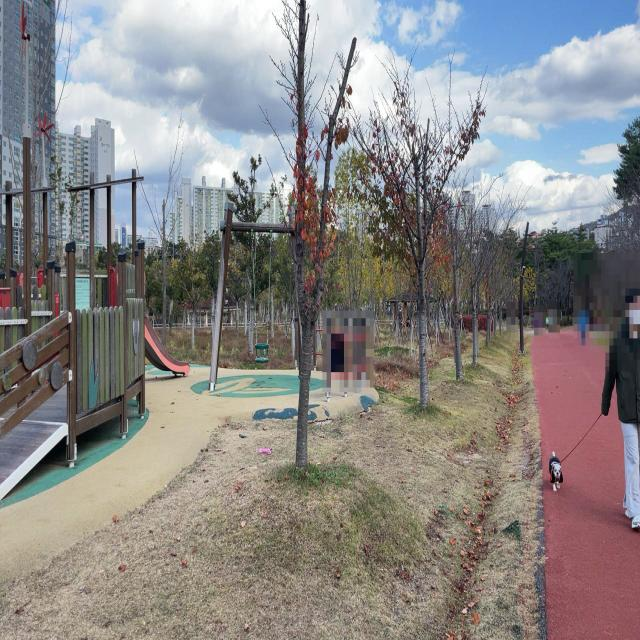Leashed_Dog: (549, 388, 637, 493)
